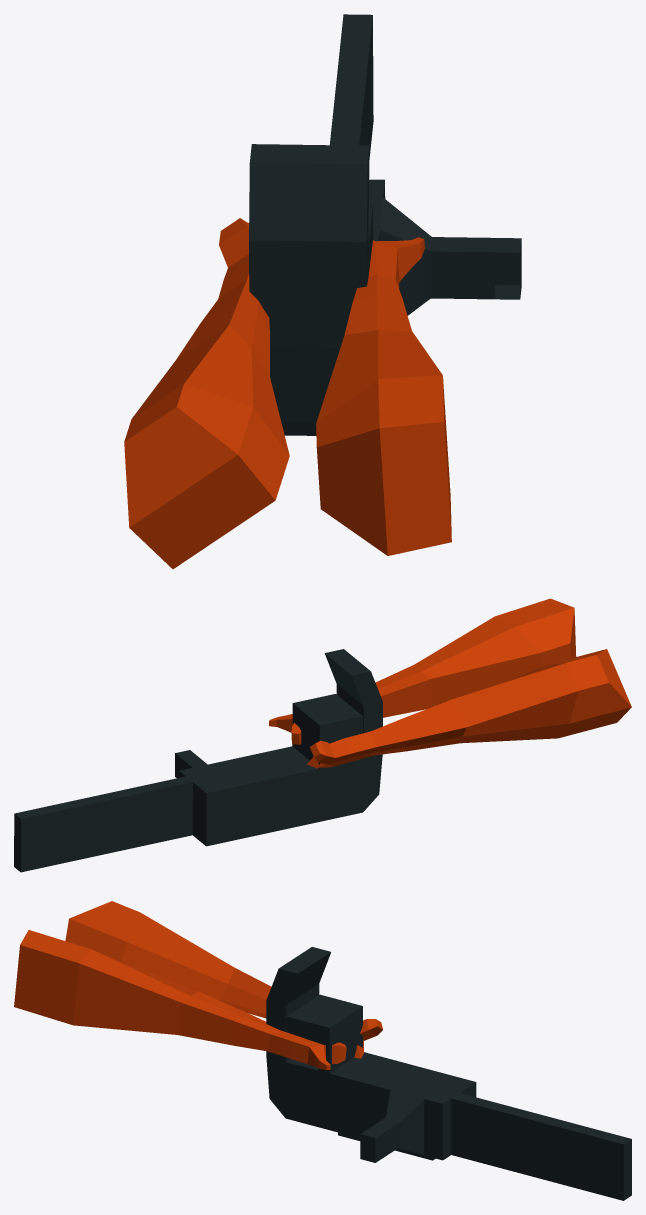
Rendered from arme_000018.obj.
3 renders of one model, top to bottom at view 1: azimuth 30°, elevation 25°; view 2: azimuth 150°, elevation 25°; view 3: azimuth 270°, elevation 25°, orthographic. The views are drawn at different scales.
Parts seen in each view (by area): view 1: Cube.046_Cube.010, Cube.048_Cube.024, Cube.047_Cube.022; view 2: Cube.046_Cube.010, Cube.048_Cube.024, Cube.047_Cube.022; view 3: Cube.046_Cube.010, Cube.047_Cube.022, Cube.048_Cube.024.
Boxes of the visible parts, x1,y1,x2,y2 form: Cube.046_Cube.010: (249,14,521,435); Cube.048_Cube.024: (124,218,289,569); Cube.047_Cube.022: (316,237,451,555); Cube.046_Cube.010: (14,649,382,872); Cube.048_Cube.024: (307,649,631,768); Cube.047_Cube.022: (269,598,576,744); Cube.046_Cube.010: (266,947,631,1200); Cube.047_Cube.022: (14,930,346,1070); Cube.048_Cube.024: (65,901,382,1058).
Bounding box in the file's own units: 1598 × 618 × 2189.
